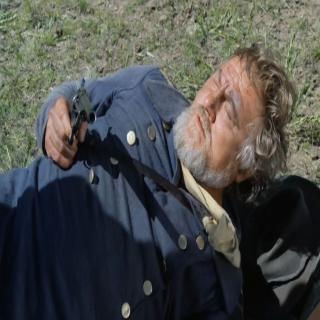gun: (42, 70, 96, 170)
